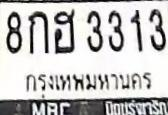1: (130, 9, 142, 52)
3: (148, 8, 166, 51), (107, 10, 124, 52), (86, 10, 103, 52)
8: (5, 11, 22, 54)
A01: (28, 10, 48, 54)
A44: (53, 8, 75, 54)
BKK: (22, 68, 152, 95)
